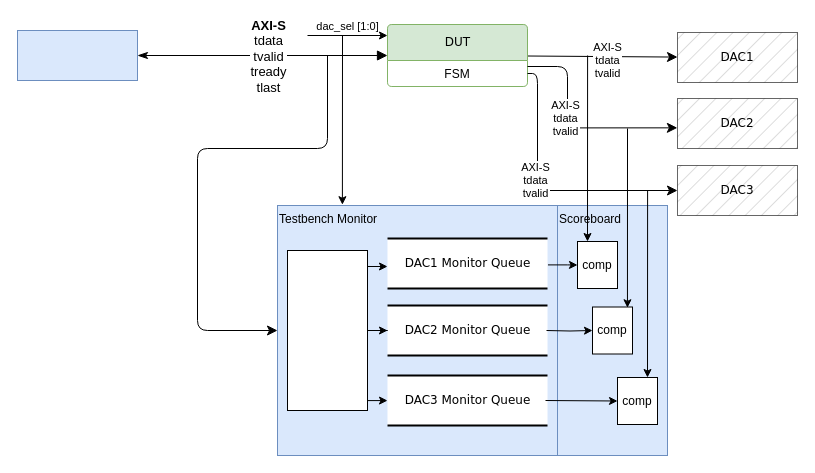
The diagram is 815 pixels wide and 473 high, and some of its shapes have lost their labels. Here are the shapes that lost their labels. From the top down, the centre of each, then its label:
At point 77,55: "Modulator Driver".
At point 327,330: "beam_mux model".
